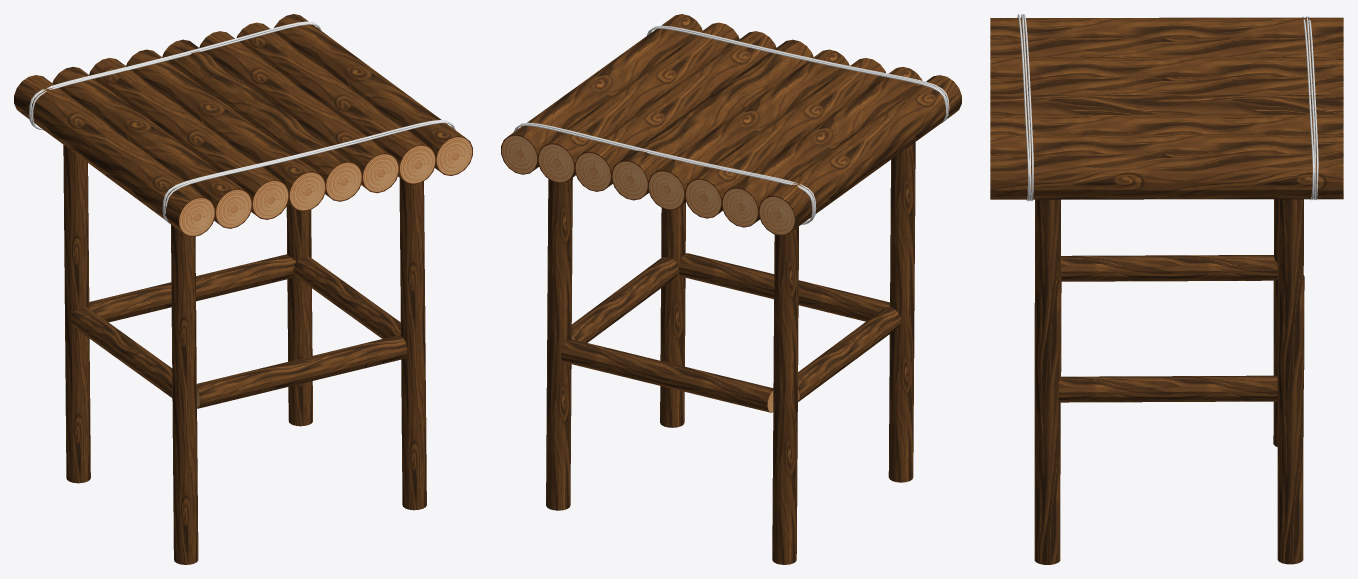
Rendered from WoodenPlatformWithStand.fbx.
The picture shows the model from 3 angles, left to right: view 1: azimuth 30°, elevation 25°; view 2: azimuth 150°, elevation 25°; view 3: azimuth 270°, elevation 25°; orthographic projection. The views are drawn at different scales.
Visible parts, largest first — view 1: Cylinder, Cylinder.009, Cylinder.010, Cylinder.008, Cylinder.004, Cylinder.002, Cylinder.007, Cylinder.005, Cylinder.006, Cylinder.003, Cylinder.001, Cylinder.012 (+8 smaller); view 2: Cylinder, Cylinder.008, Cylinder.009, Cylinder.011, Cylinder.004, Cylinder.002, Cylinder.007, Cylinder.005, Cylinder.006, Cylinder.003, Cylinder.001, Cylinder.013 (+8 smaller); view 3: Cylinder.007, Cylinder.011, Cylinder.010, Cylinder.005, Cylinder, Cylinder.004, Cylinder.002, Cylinder.006, Cylinder.001, Cylinder.003, Cylinder.015, Cylinder.014 (+7 smaller).
Part boxes in pixels (box(x1,y1,x2,y2)): Cylinder: box(14, 75, 215, 236); Cylinder.009: box(171, 224, 198, 564); Cylinder.010: box(399, 178, 426, 510); Cylinder.008: box(63, 145, 90, 483); Cylinder.004: box(162, 39, 362, 201); Cylinder.002: box(89, 58, 289, 219); Cylinder.007: box(274, 14, 472, 175); Cylinder.005: box(199, 31, 399, 193); Cylinder.006: box(236, 22, 435, 184); Cylinder.003: box(126, 49, 325, 211); Cylinder.001: box(52, 67, 252, 228); Cylinder.012: box(197, 335, 407, 408); Cylinder: box(758, 75, 961, 235); Cylinder.008: box(772, 226, 798, 564); Cylinder.009: box(888, 142, 915, 482); Cylinder.011: box(546, 178, 572, 510); Cylinder.004: box(611, 39, 813, 200); Cylinder.002: box(685, 58, 885, 218); Cylinder.007: box(501, 14, 702, 174); Cylinder.005: box(574, 31, 776, 191); Cylinder.006: box(538, 22, 739, 183); Cylinder.003: box(648, 49, 849, 210); Cylinder.001: box(722, 67, 922, 227); Cylinder.013: box(561, 339, 773, 412); Cylinder.007: box(990, 153, 1343, 199); Cylinder.011: box(1277, 199, 1303, 564); Cylinder.010: box(1034, 199, 1060, 564); Cylinder.005: box(990, 114, 1343, 134); Cylinder: box(990, 17, 1343, 37); Cylinder.004: box(990, 94, 1343, 114); Cylinder.002: box(990, 57, 1343, 76); Cylinder.006: box(990, 134, 1343, 153); Cylinder.001: box(990, 37, 1343, 56); Cylinder.003: box(990, 77, 1343, 94); Cylinder.015: box(1058, 375, 1277, 402); Cylinder.014: box(1061, 255, 1277, 281).
Size of the model in its own units: 149 by 187 by 143.
